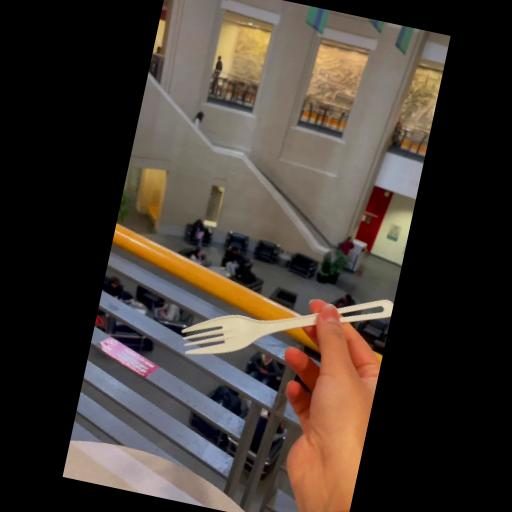utensil: (165, 232, 399, 418)
